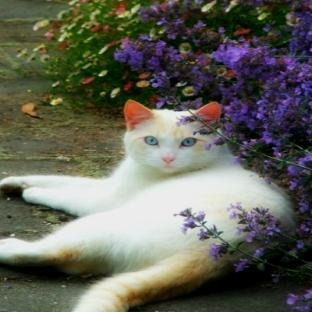Animal: (1, 100, 296, 311)
